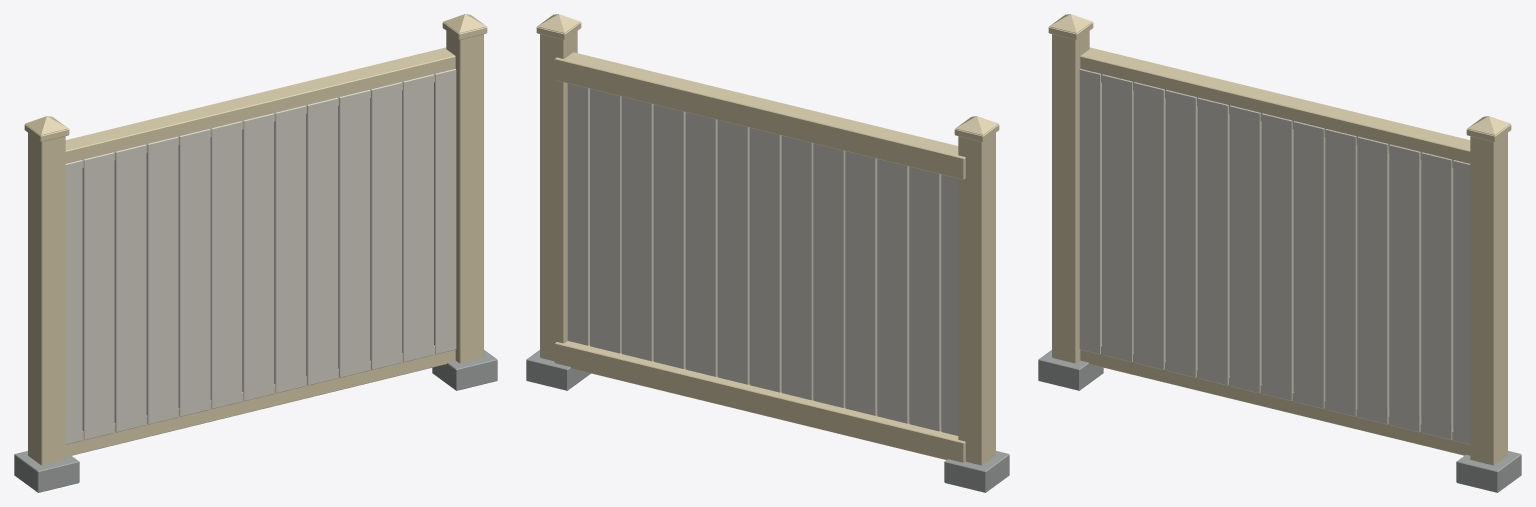
The model's file is b19_tongue_groove_vinyl_fence.glb.
3 renders of one model, left to right at view 1: azimuth 30°, elevation 25°; view 2: azimuth 150°, elevation 25°; view 3: azimuth 330°, elevation 25°, orthographic.
Parts seen in each view (by area): view 1: b19_tongue_groove_vinyl_fence; view 2: b19_tongue_groove_vinyl_fence; view 3: b19_tongue_groove_vinyl_fence.
Boxes of the visible parts, <box> form: b19_tongue_groove_vinyl_fence: <box>14,14,497,492</box>; b19_tongue_groove_vinyl_fence: <box>526,14,1009,492</box>; b19_tongue_groove_vinyl_fence: <box>1038,14,1521,492</box>.
Bounding box in the file's own units: 2.64 × 1.99 × 0.24.
